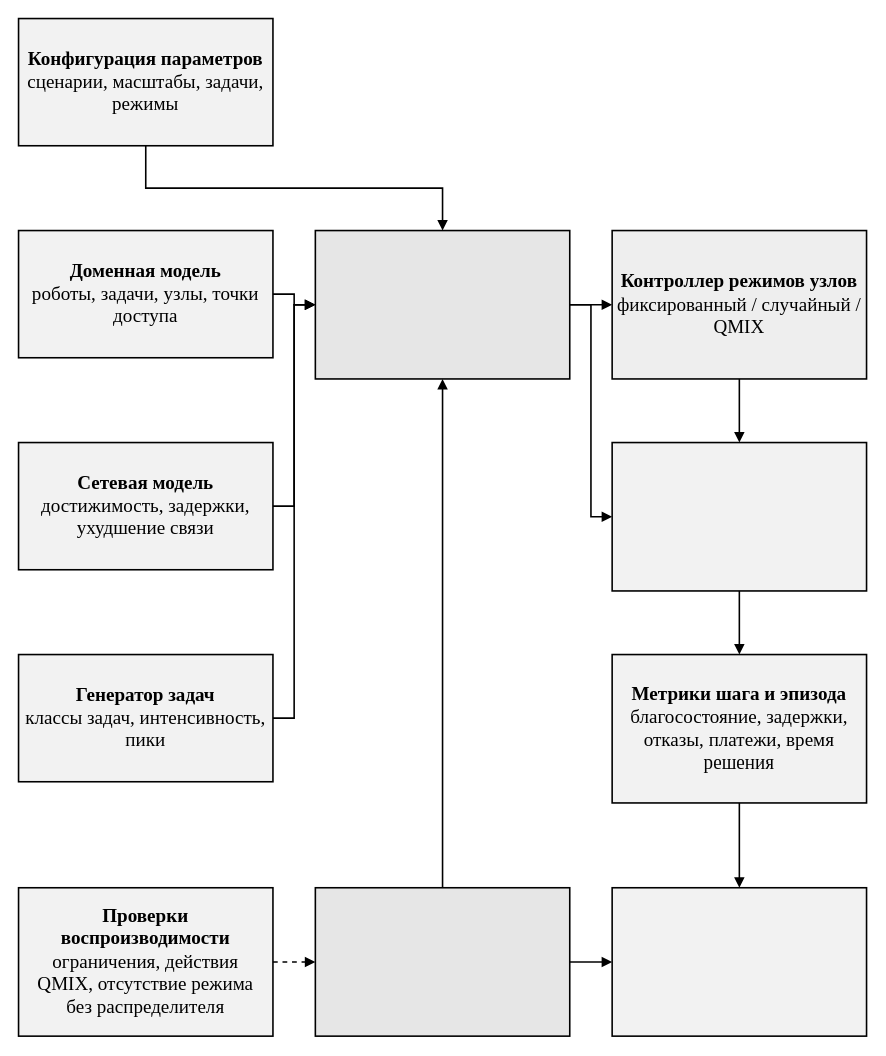
The diagram is 886 pixels wide and 1056 high, and some of its shapes have lost their labels. The box of each missing label's shape, as (x1, y1, x2, y2) in pixels:
Запуск экспериментов обучение, оценка, начальные значения: (314, 886, 570, 1036)
Имитационная среда шаги эпизода, состояние склада, очереди: (314, 229, 570, 379)
Слой распределения задач эвристика / VCG-подобный / кластерный: (611, 441, 867, 591)
Экспорт результатов табличные файлы, графики, вёрстка: (611, 886, 867, 1036)
